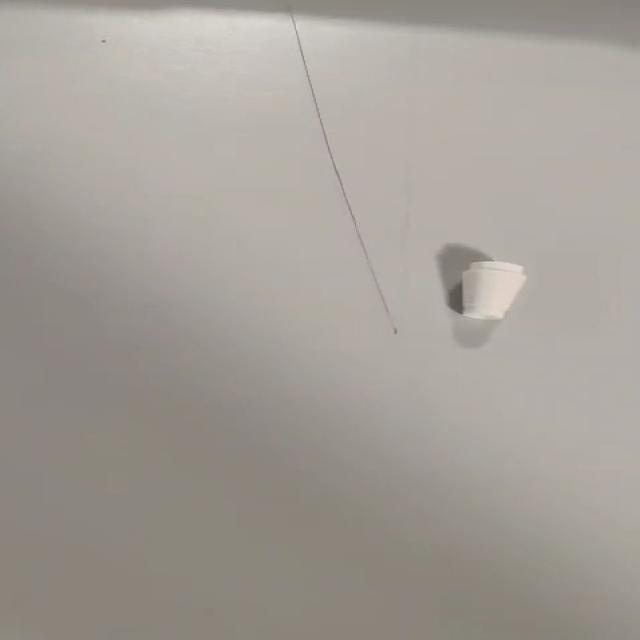Z1x1x1: (457, 258, 533, 324)
